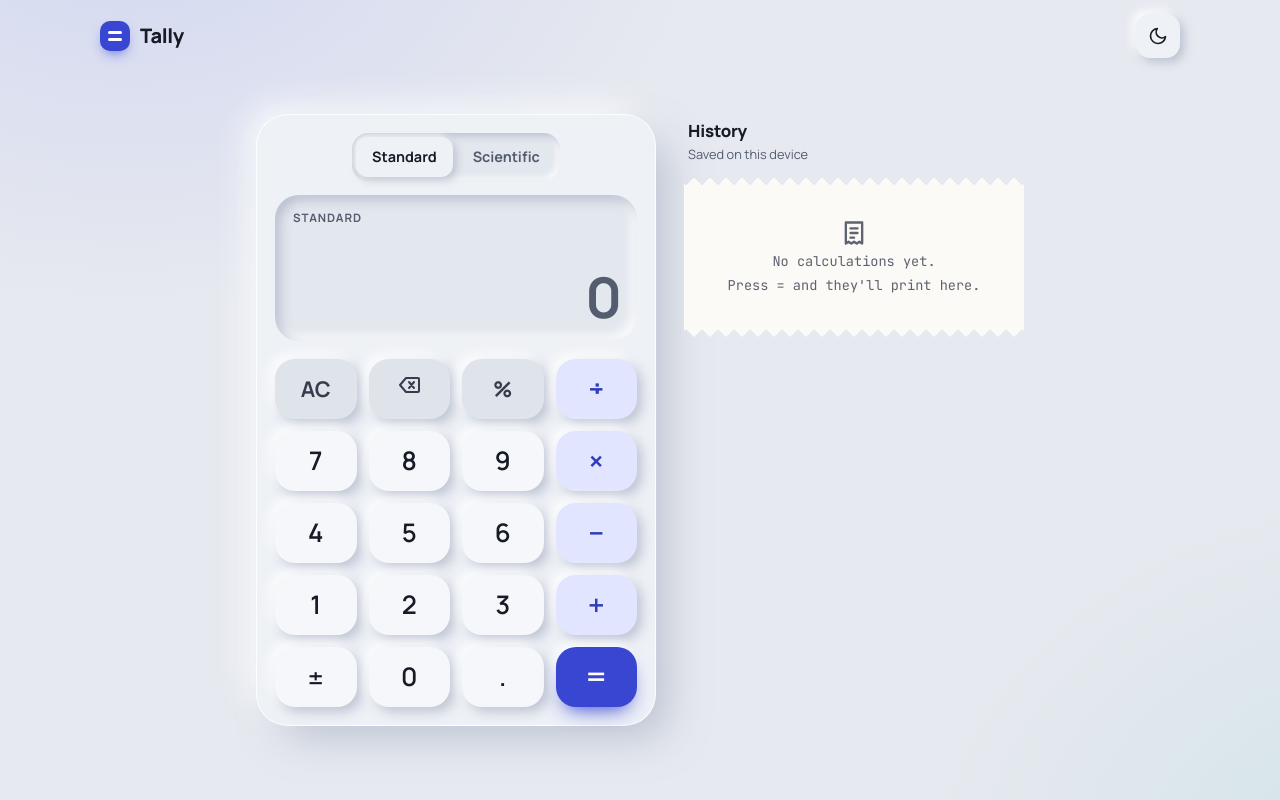
Test: display and keypad › shows the expression with the last token highlighted and a live preview
Click the button "2" at point(409, 605), box [368,575,450,635]
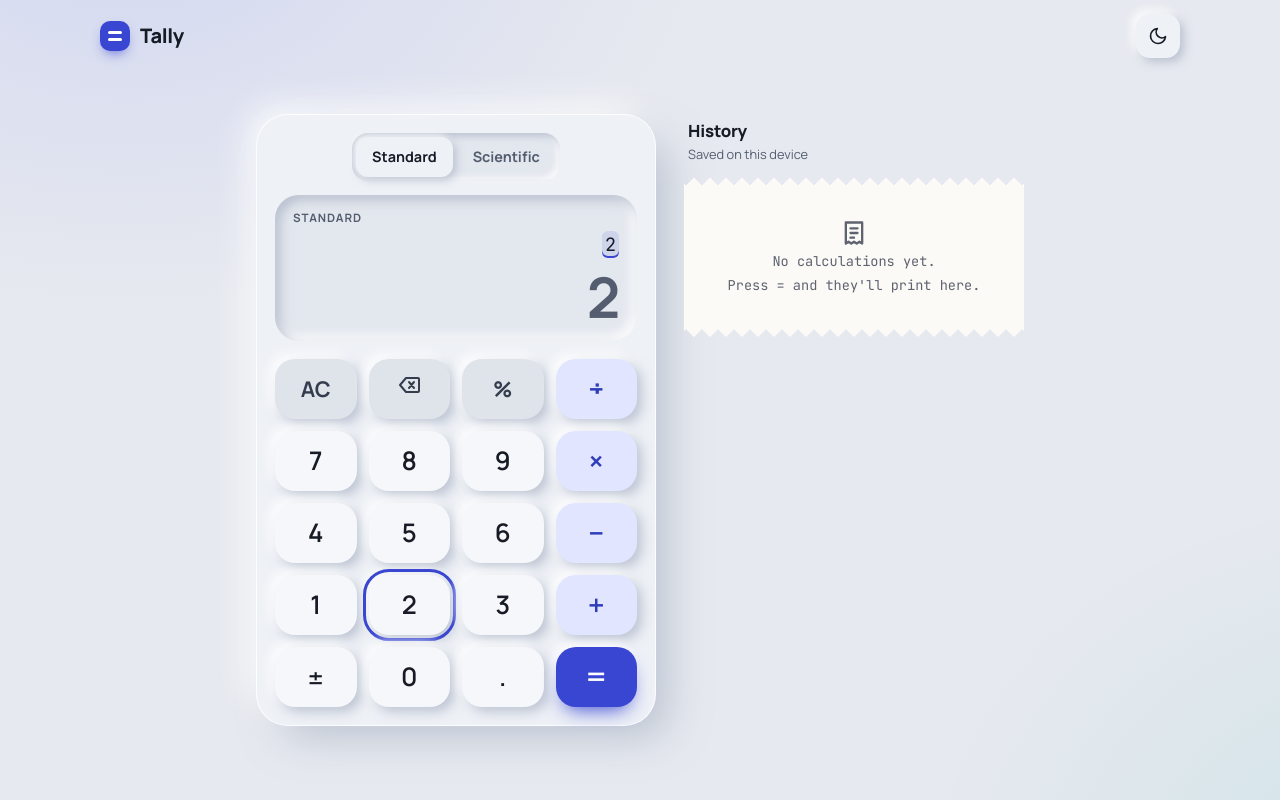
Click the button named "plus" at point(596, 605), box [556,575,637,635]
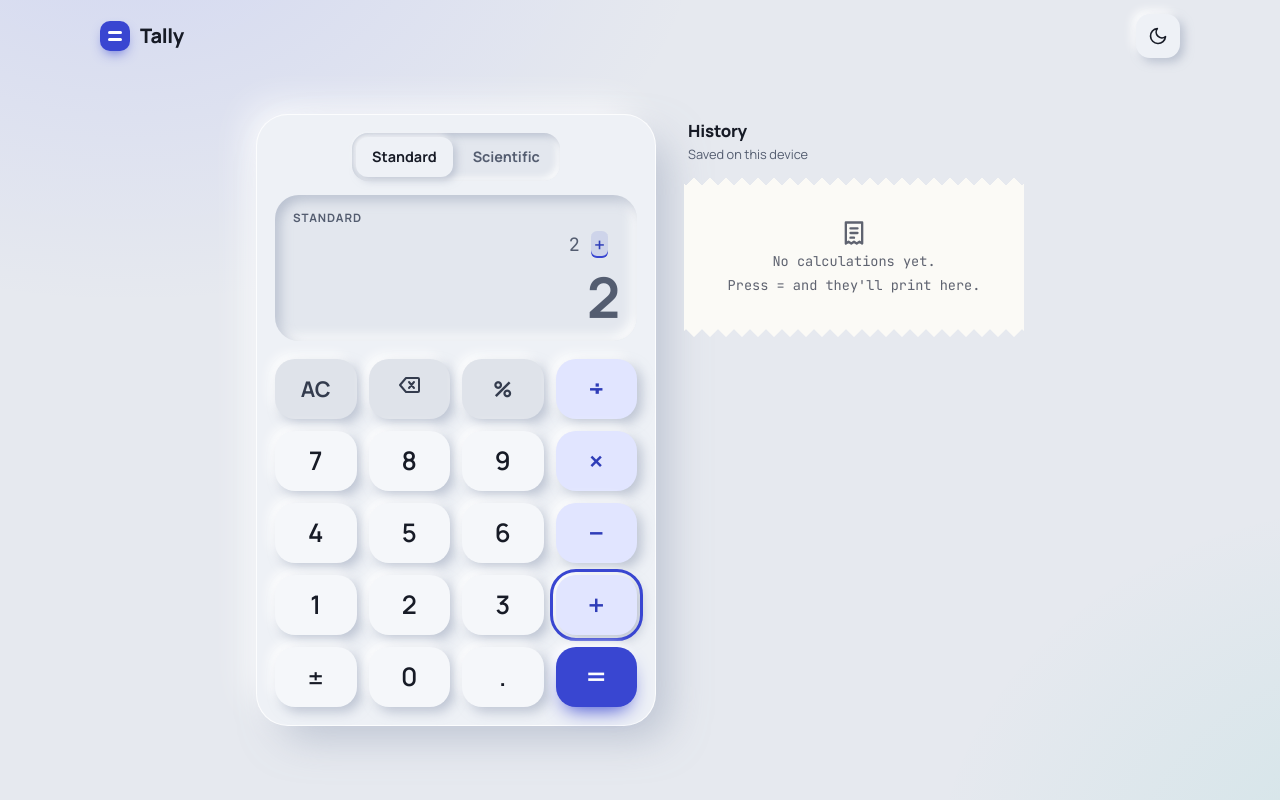
Click the button "3" at point(503, 605), box [462,575,544,635]
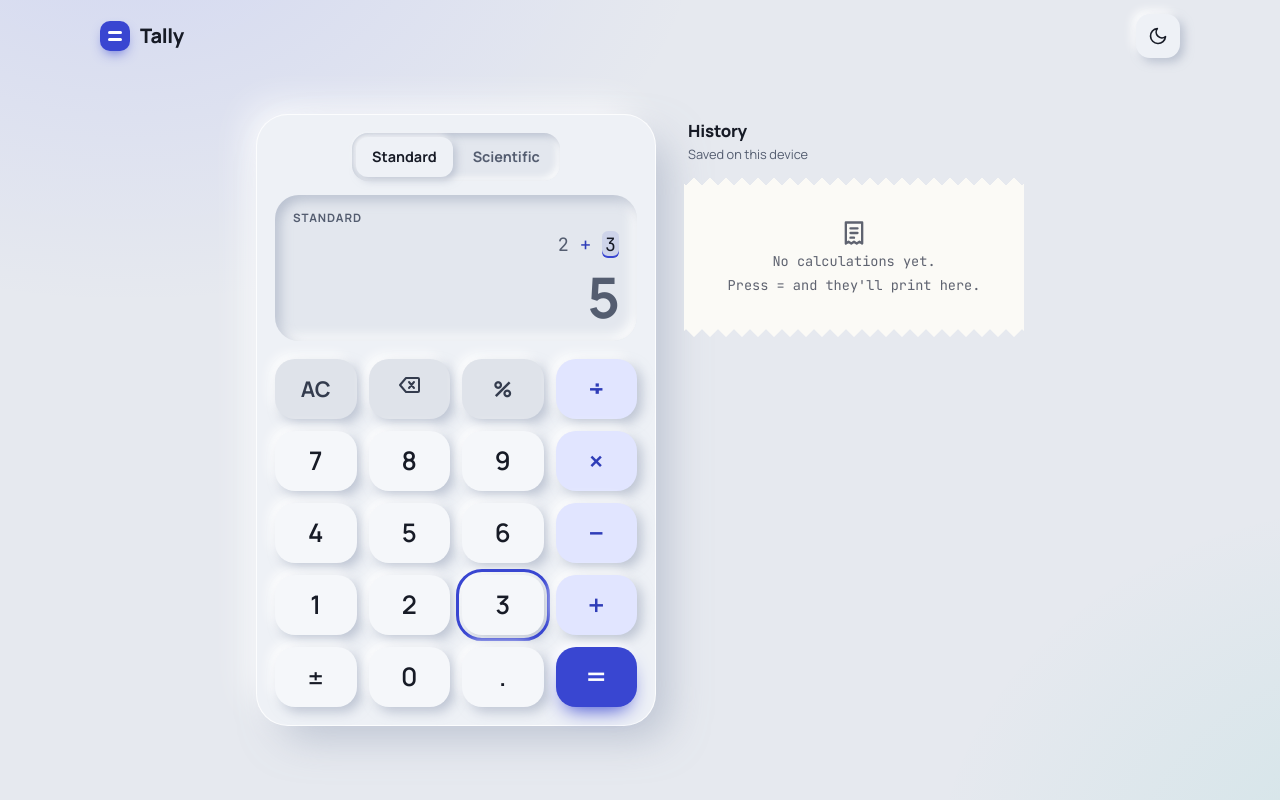
Expected: the field with test id "expression" reads "2 + 3", [558,231,619,258]
Expected: the 1st text "3" is shown, [602,231,619,258]
Expected: the text with test id "result" reads "5", [586,258,619,335]
